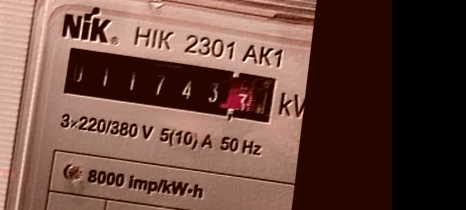0: (70, 57, 87, 85)
1: (96, 60, 114, 90), (124, 64, 140, 94)
3: (204, 78, 221, 106), (232, 91, 250, 114)
4: (178, 76, 195, 102)
7: (151, 71, 168, 97)
screen: (54, 42, 286, 132)
